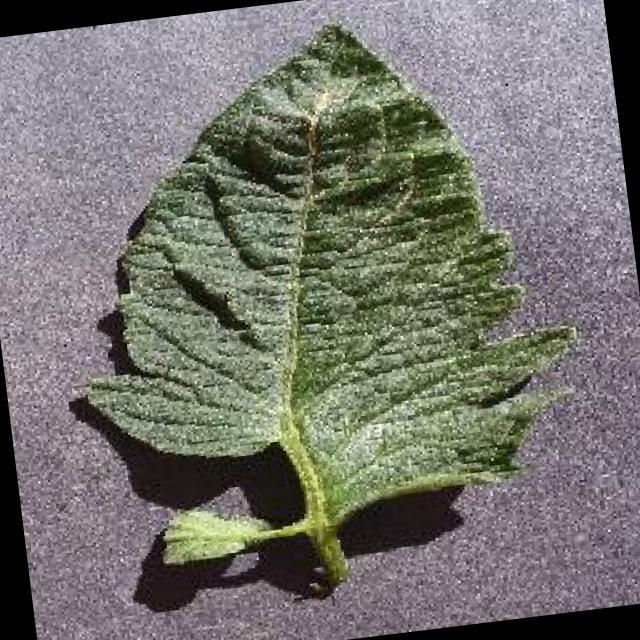Tomato_Healthy: (14, 0, 613, 603)
